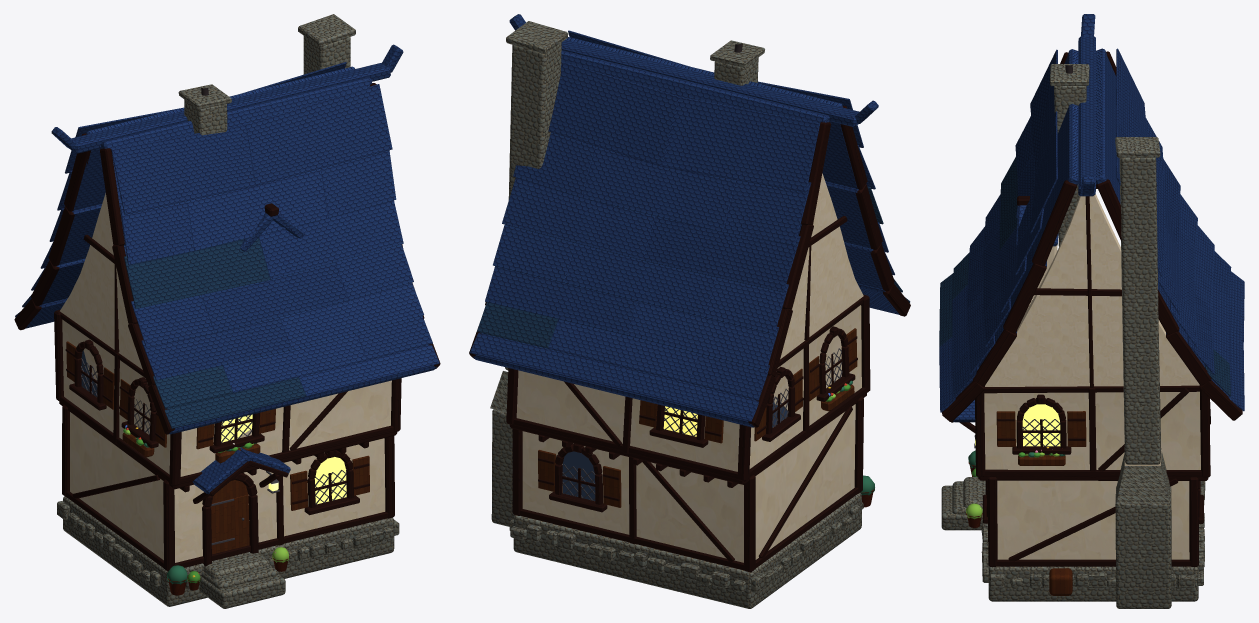
File: azshara_house_4.gltf
3 views of the same model, side by side, from view 1: azimuth 30°, elevation 25°; view 2: azimuth 150°, elevation 25°; view 3: azimuth 270°, elevation 25° (orthographic). The views are drawn at different scales.
Parts seen in each view (by area): view 1: azshara_house_4_roof_LOD0, azshara_house_4_wall_LOD0, azshara_house_4_trim_LOD0, azshara_house_4_base_LOD0, azshara_house_4_door_LOD0, azshara_house_4_glow_FFB65A_LOD0, azshara_house_4_metal_LOD0, azshara_house_4_flora_LOD0; view 2: azshara_house_4_roof_LOD0, azshara_house_4_wall_LOD0, azshara_house_4_trim_LOD0, azshara_house_4_base_LOD0, azshara_house_4_door_LOD0, azshara_house_4_glass_LOD0, azshara_house_4_metal_LOD0; view 3: azshara_house_4_roof_LOD0, azshara_house_4_wall_LOD0, azshara_house_4_base_LOD0, azshara_house_4_trim_LOD0, azshara_house_4_door_LOD0, azshara_house_4_glow_FFB65A_LOD0, azshara_house_4_flora_LOD0, azshara_house_4_metal_LOD0.
Part boxes in pixels (x1=…): azshara_house_4_roof_LOD0: x1=15, y1=44, x2=439, y2=494; azshara_house_4_wall_LOD0: x1=60, y1=193, x2=391, y2=562; azshara_house_4_trim_LOD0: x1=14, y1=83, x2=440, y2=571; azshara_house_4_base_LOD0: x1=57, y1=14, x2=399, y2=608; azshara_house_4_door_LOD0: x1=66, y1=341, x2=369, y2=595; azshara_house_4_glow_FFB65A_LOD0: x1=221, y1=414, x2=346, y2=504; azshara_house_4_metal_LOD0: x1=80, y1=87, x2=346, y2=545; azshara_house_4_flora_LOD0: x1=123, y1=425, x2=288, y2=584; azshara_house_4_roof_LOD0: x1=470, y1=14, x2=910, y2=427; azshara_house_4_wall_LOD0: x1=516, y1=173, x2=863, y2=562; azshara_house_4_trim_LOD0: x1=469, y1=105, x2=910, y2=572; azshara_house_4_base_LOD0: x1=490, y1=21, x2=863, y2=608; azshara_house_4_door_LOD0: x1=538, y1=328, x2=874, y2=507; azshara_house_4_glass_LOD0: x1=562, y1=402, x2=787, y2=500; azshara_house_4_metal_LOD0: x1=562, y1=43, x2=842, y2=500; azshara_house_4_roof_LOD0: x1=939, y1=14, x2=1244, y2=422; azshara_house_4_wall_LOD0: x1=984, y1=194, x2=1200, y2=559; azshara_house_4_base_LOD0: x1=941, y1=64, x2=1205, y2=608; azshara_house_4_trim_LOD0: x1=942, y1=51, x2=1242, y2=566; azshara_house_4_door_LOD0: x1=966, y1=411, x2=1086, y2=595; azshara_house_4_glow_FFB65A_LOD0: x1=1022, y1=404, x2=1060, y2=446; azshara_house_4_flora_LOD0: x1=966, y1=447, x2=1064, y2=519; azshara_house_4_metal_LOD0: x1=974, y1=65, x2=1072, y2=448.
Size of what is drawn, in the model's own units: 11.6 by 15.15 by 8.98.
10 materials, 5 textured.
